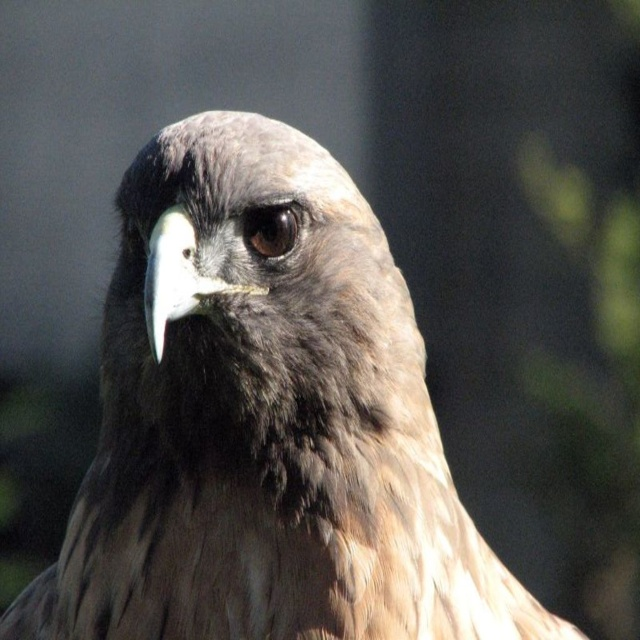Eagle: (0, 111, 593, 639)
